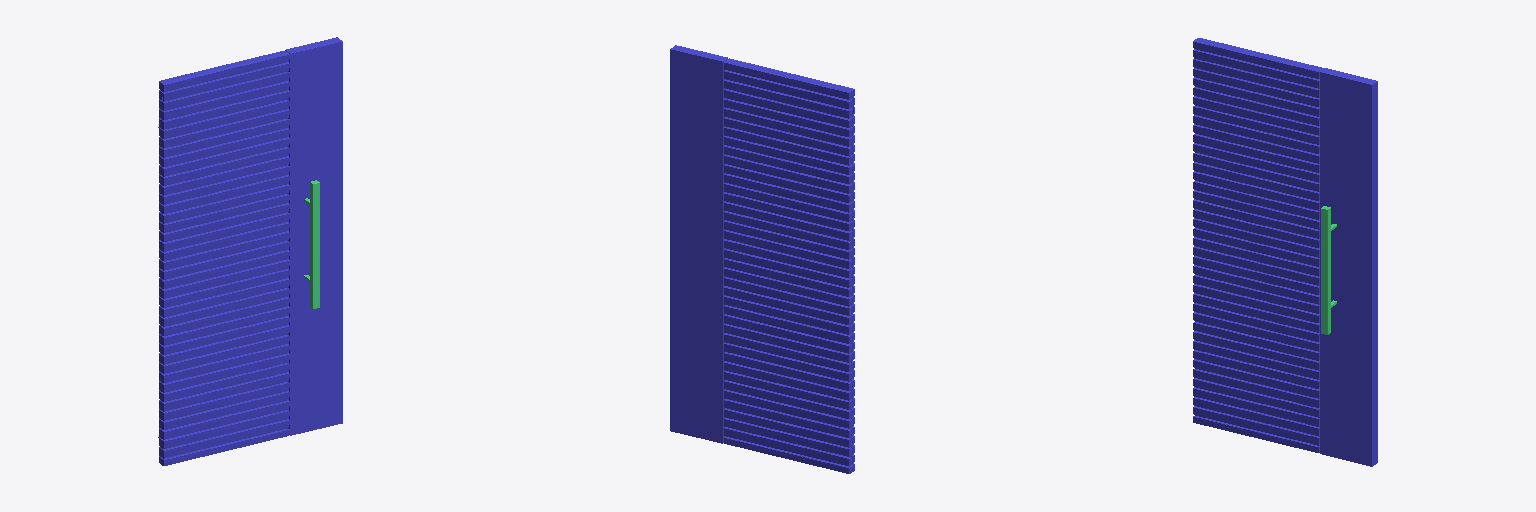
Rendered from Door.obj.
3 renders of one model, left to right at view 1: azimuth 30°, elevation 25°; view 2: azimuth 150°, elevation 25°; view 3: azimuth 330°, elevation 25°, orthographic.
Visible parts, largest first — view 1: 18._Door.001_Door_F; view 2: 18._Door.001_Door_F; view 3: 18._Door.001_Door_F.
Part boxes in pixels (x1,y1,x2,y2): 18._Door.001_Door_F: (158, 37, 342, 465); 18._Door.001_Door_F: (670, 45, 854, 473); 18._Door.001_Door_F: (1193, 38, 1377, 466).
Bounding box in the file's own units: 5.1 × 10.41 × 0.8098.